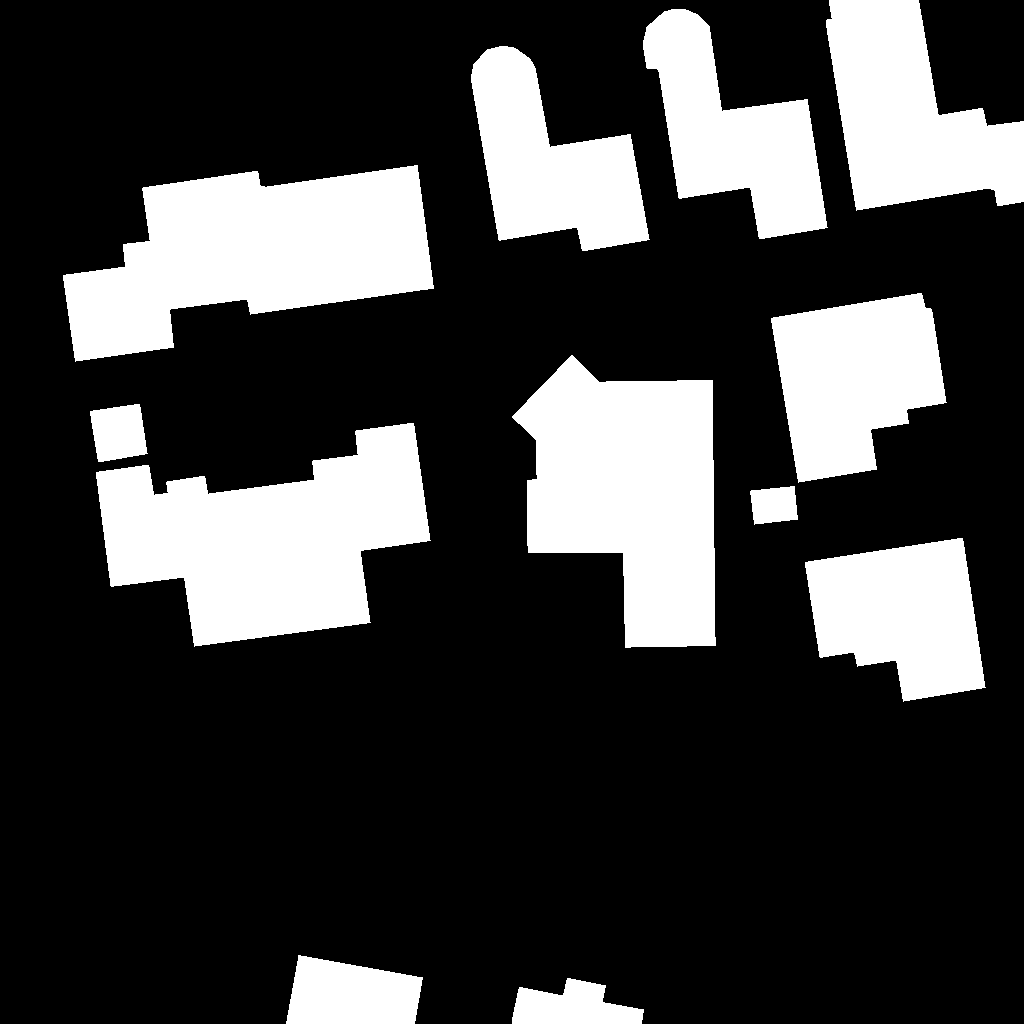building: (96, 423, 431, 647), (63, 165, 435, 362), (512, 355, 716, 648), (643, 9, 828, 240), (826, 0, 1024, 211), (471, 46, 650, 252), (771, 293, 947, 483), (805, 538, 986, 702), (286, 955, 424, 1024), (512, 978, 645, 1024), (90, 404, 148, 463), (750, 486, 799, 525)
